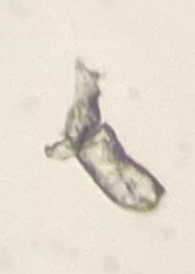microplastic: (44, 60, 165, 212)
